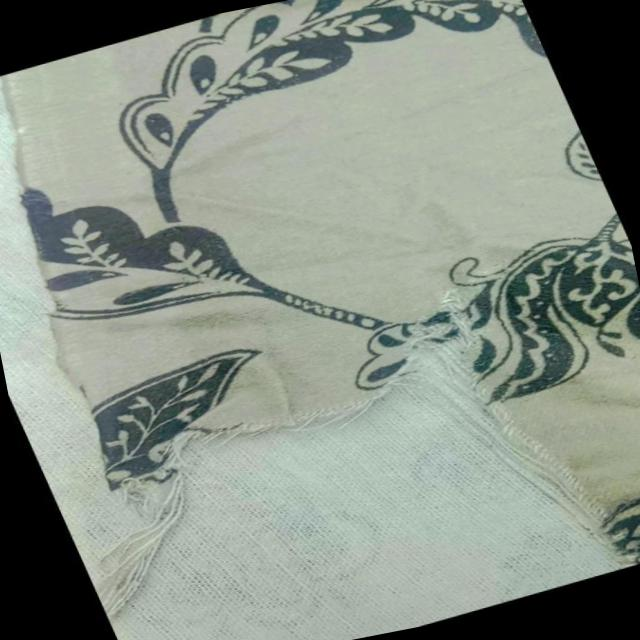cut: (328, 272, 636, 588), (68, 382, 359, 552)
